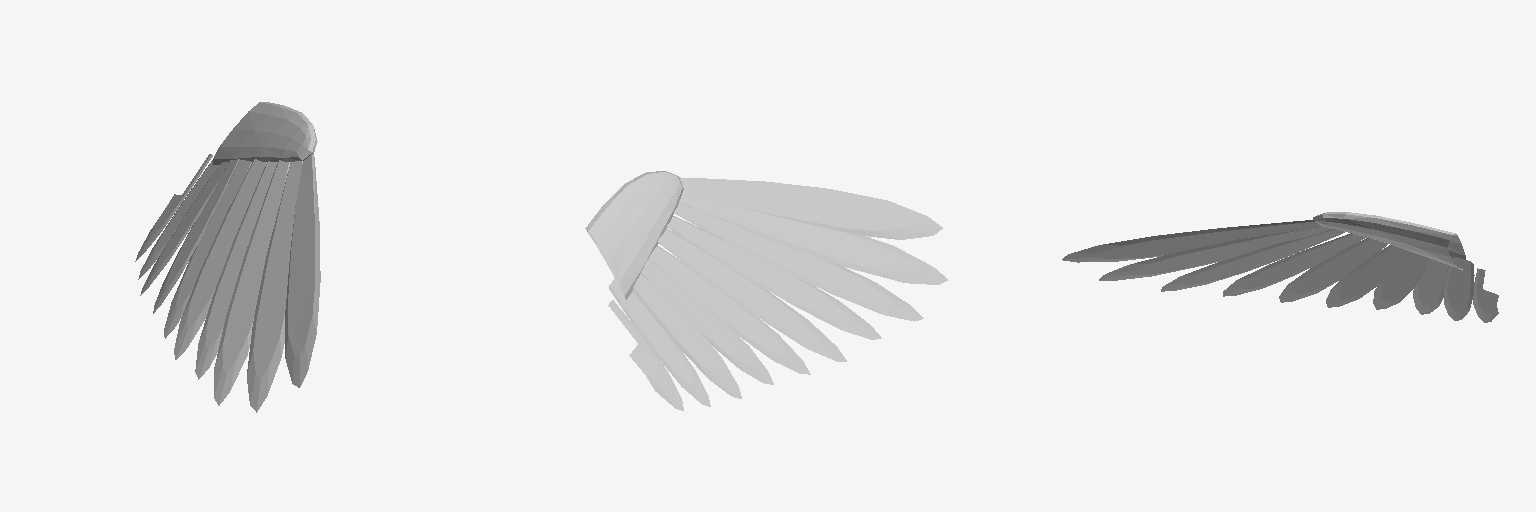
File: pajaro1der.obj
3 views of the same model, side by side, from view 1: azimuth 30°, elevation 25°; view 2: azimuth 150°, elevation 25°; view 3: azimuth 270°, elevation 25° (orthographic).
Visible parts, largest first — view 1: Cube.001_Cube.003; view 2: Cube.001_Cube.003; view 3: Cube.001_Cube.003.
Boxes of the visible parts, x1,y1,x2,y2 form: Cube.001_Cube.003: [135, 102, 320, 412]; Cube.001_Cube.003: [585, 171, 947, 410]; Cube.001_Cube.003: [1062, 212, 1498, 322].
Size of the model in its own units: 0.8801 by 0.7466 by 1.73.